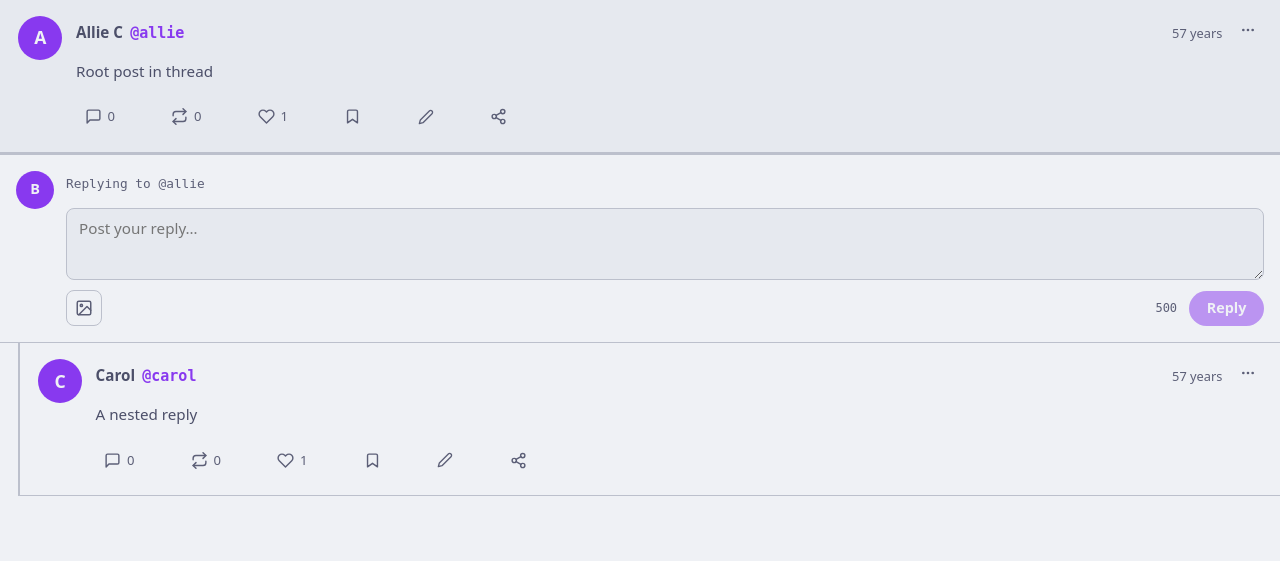
ThreadRoute › targets a specific reply: composer header, preview, and inReplyToId (issue #154)
Expected: the text "A nested reply" is shown, [96, 404, 197, 424]
Expected: the text "Replying to @allie" is shown, [66, 171, 1264, 197]
Click the reply action on the nested reply — it becomes the target.
Step 1. Click the button named "Reply to @carol" → (119, 460), box [96, 441, 143, 479]
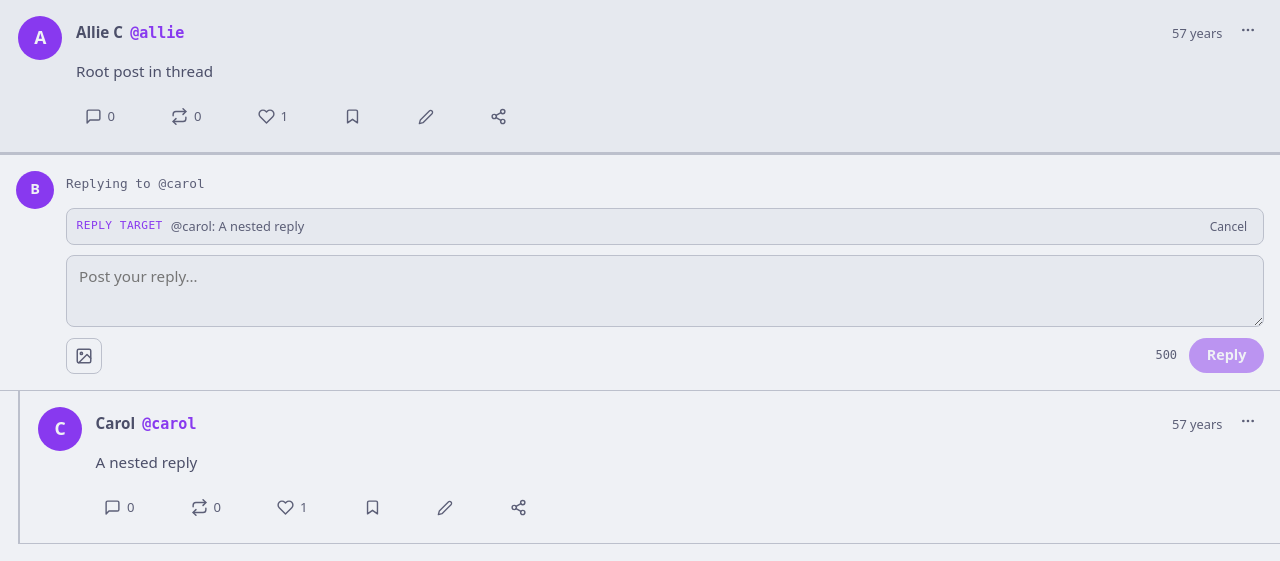
Expected: the text "Replying to @carol" is shown, [66, 171, 1264, 197]
Expected: the text "Reply target" is shown, [77, 218, 163, 234]
Expected: the text "@carol: A nested reply" is shown, [171, 217, 304, 235]
Step 2. Type "Replying to carol" into the text box with placeholder "Post your reply…" → (665, 291), box [66, 255, 1264, 327]
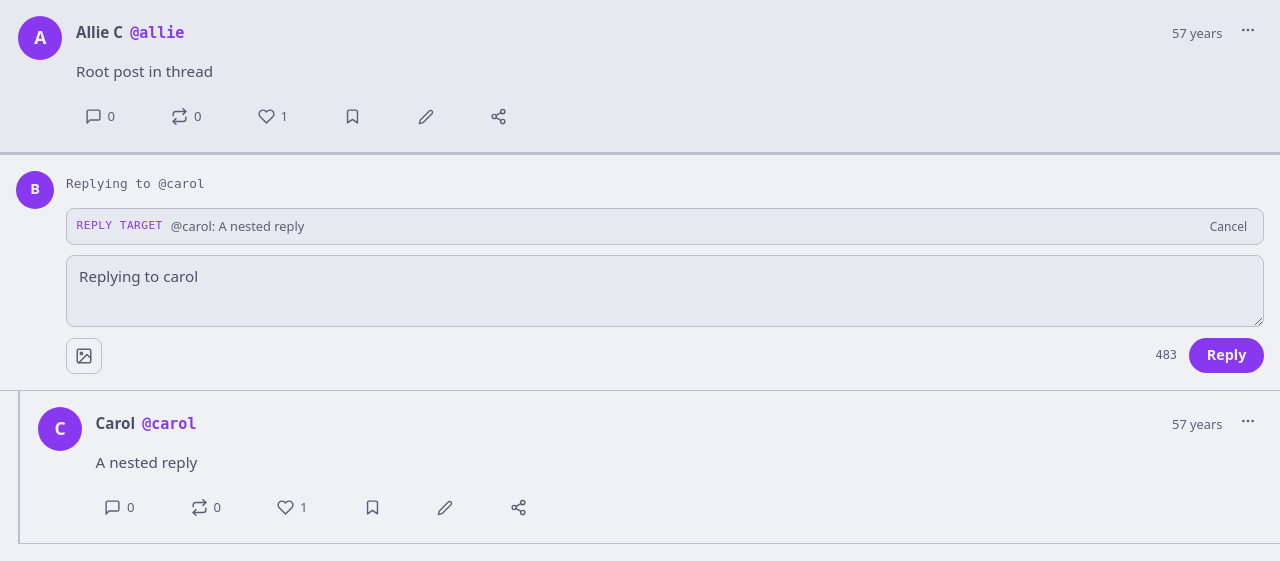
Step 3. Click the button "Reply" → (1227, 356), box [1189, 338, 1264, 373]
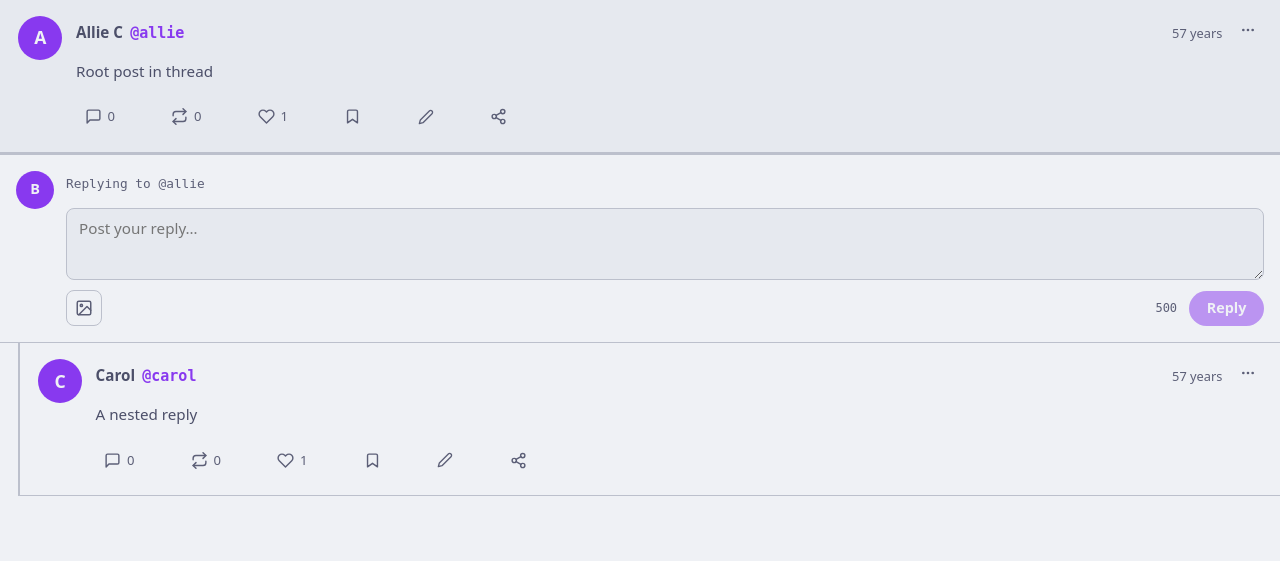
Expected: the text "Reply target" is gone
Expected: the text "Replying to @allie" is shown, [66, 171, 1264, 197]
